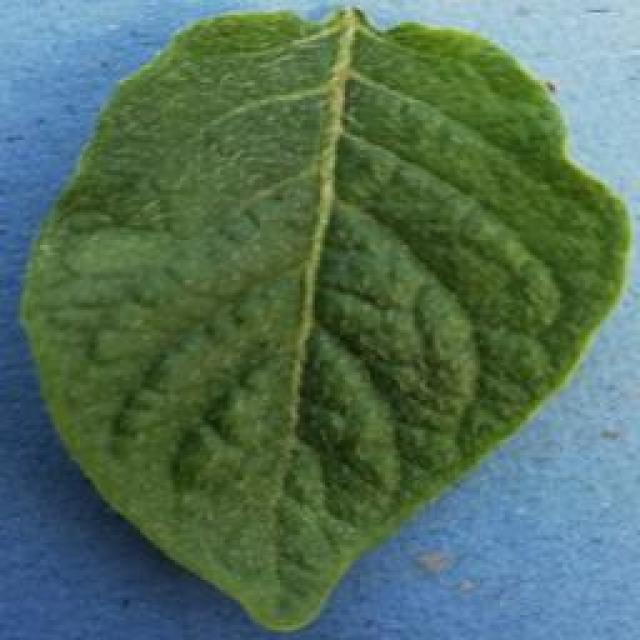Potato_Healthy: (26, 7, 624, 631)
